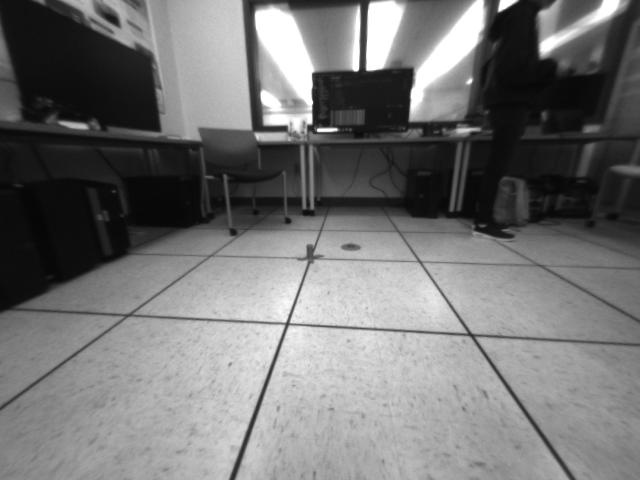X: (296, 244, 326, 263)
